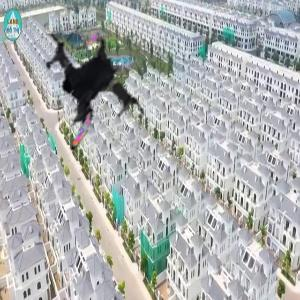drone: (7, 21, 154, 168)
